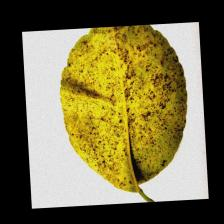canker: (75, 54, 173, 150)
